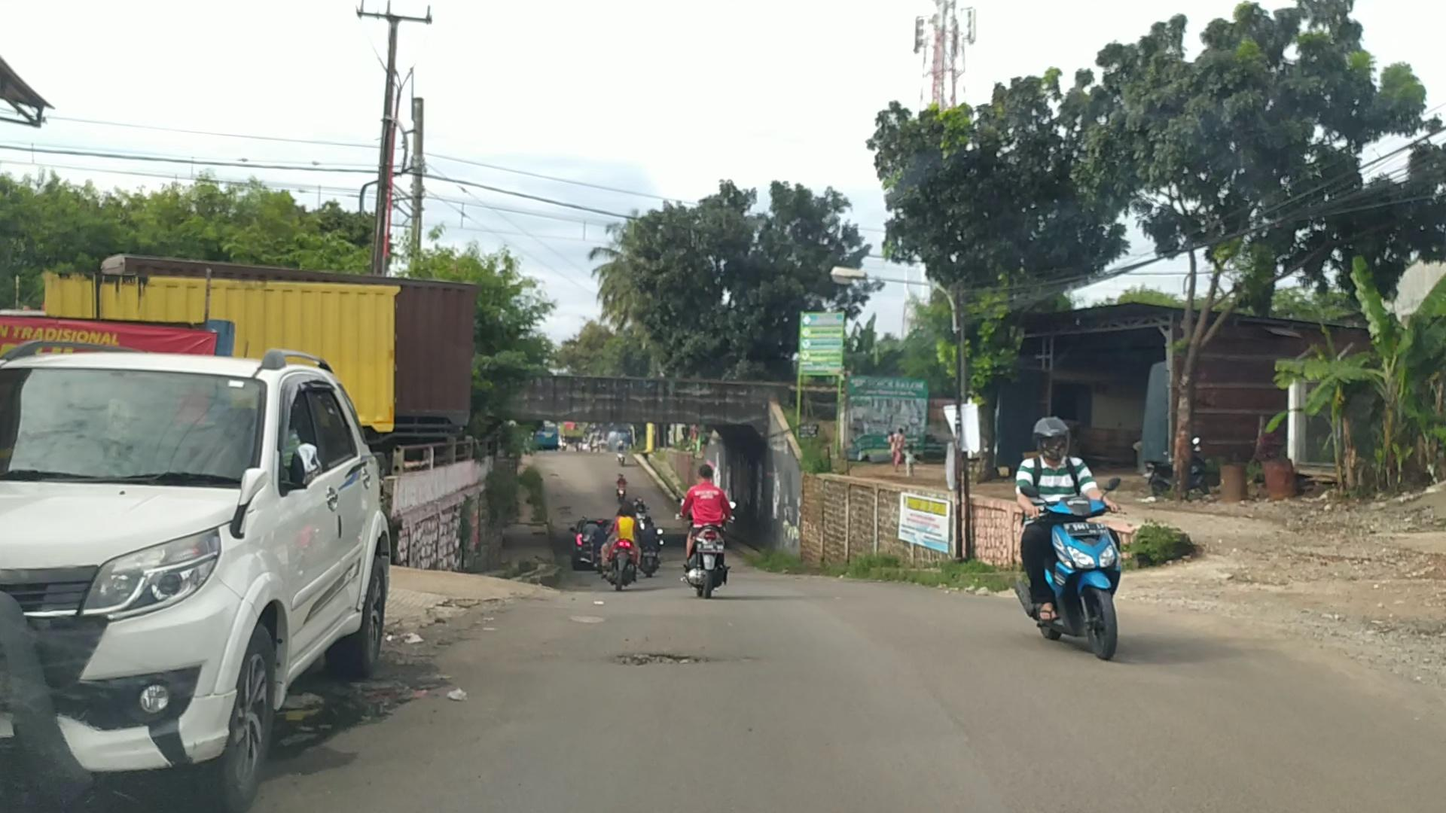pothole: (620, 652, 718, 669)
